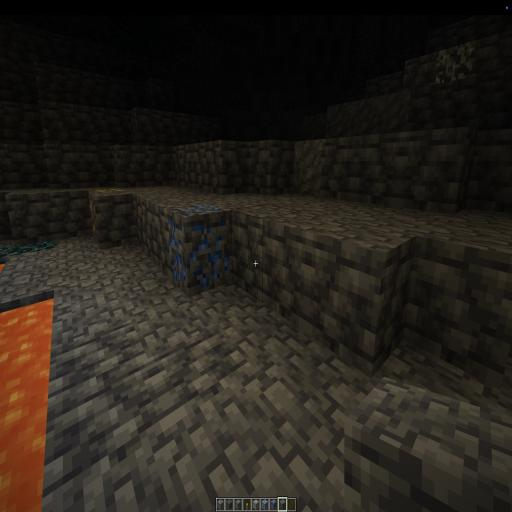gold ore: (86, 190, 96, 246)
lapis ore: (163, 207, 234, 295)
